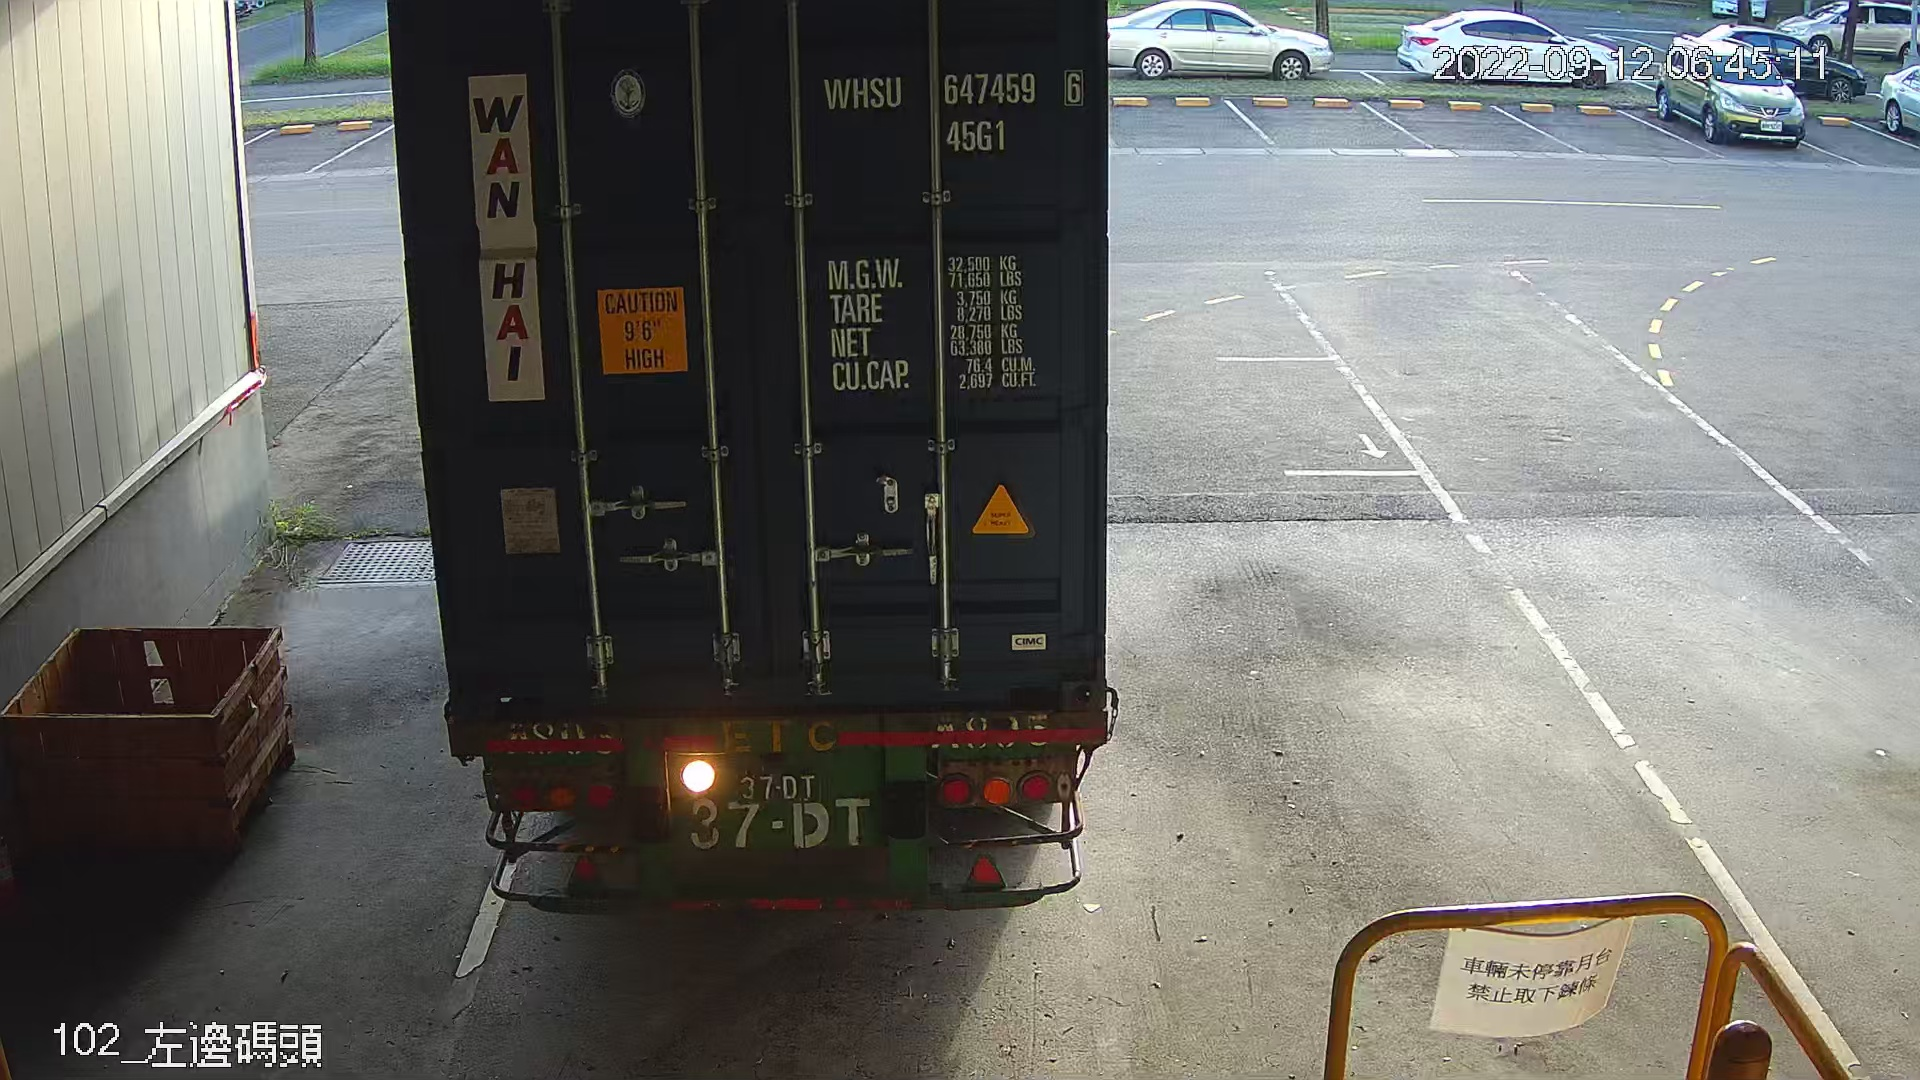container: (816, 63, 1091, 161)
